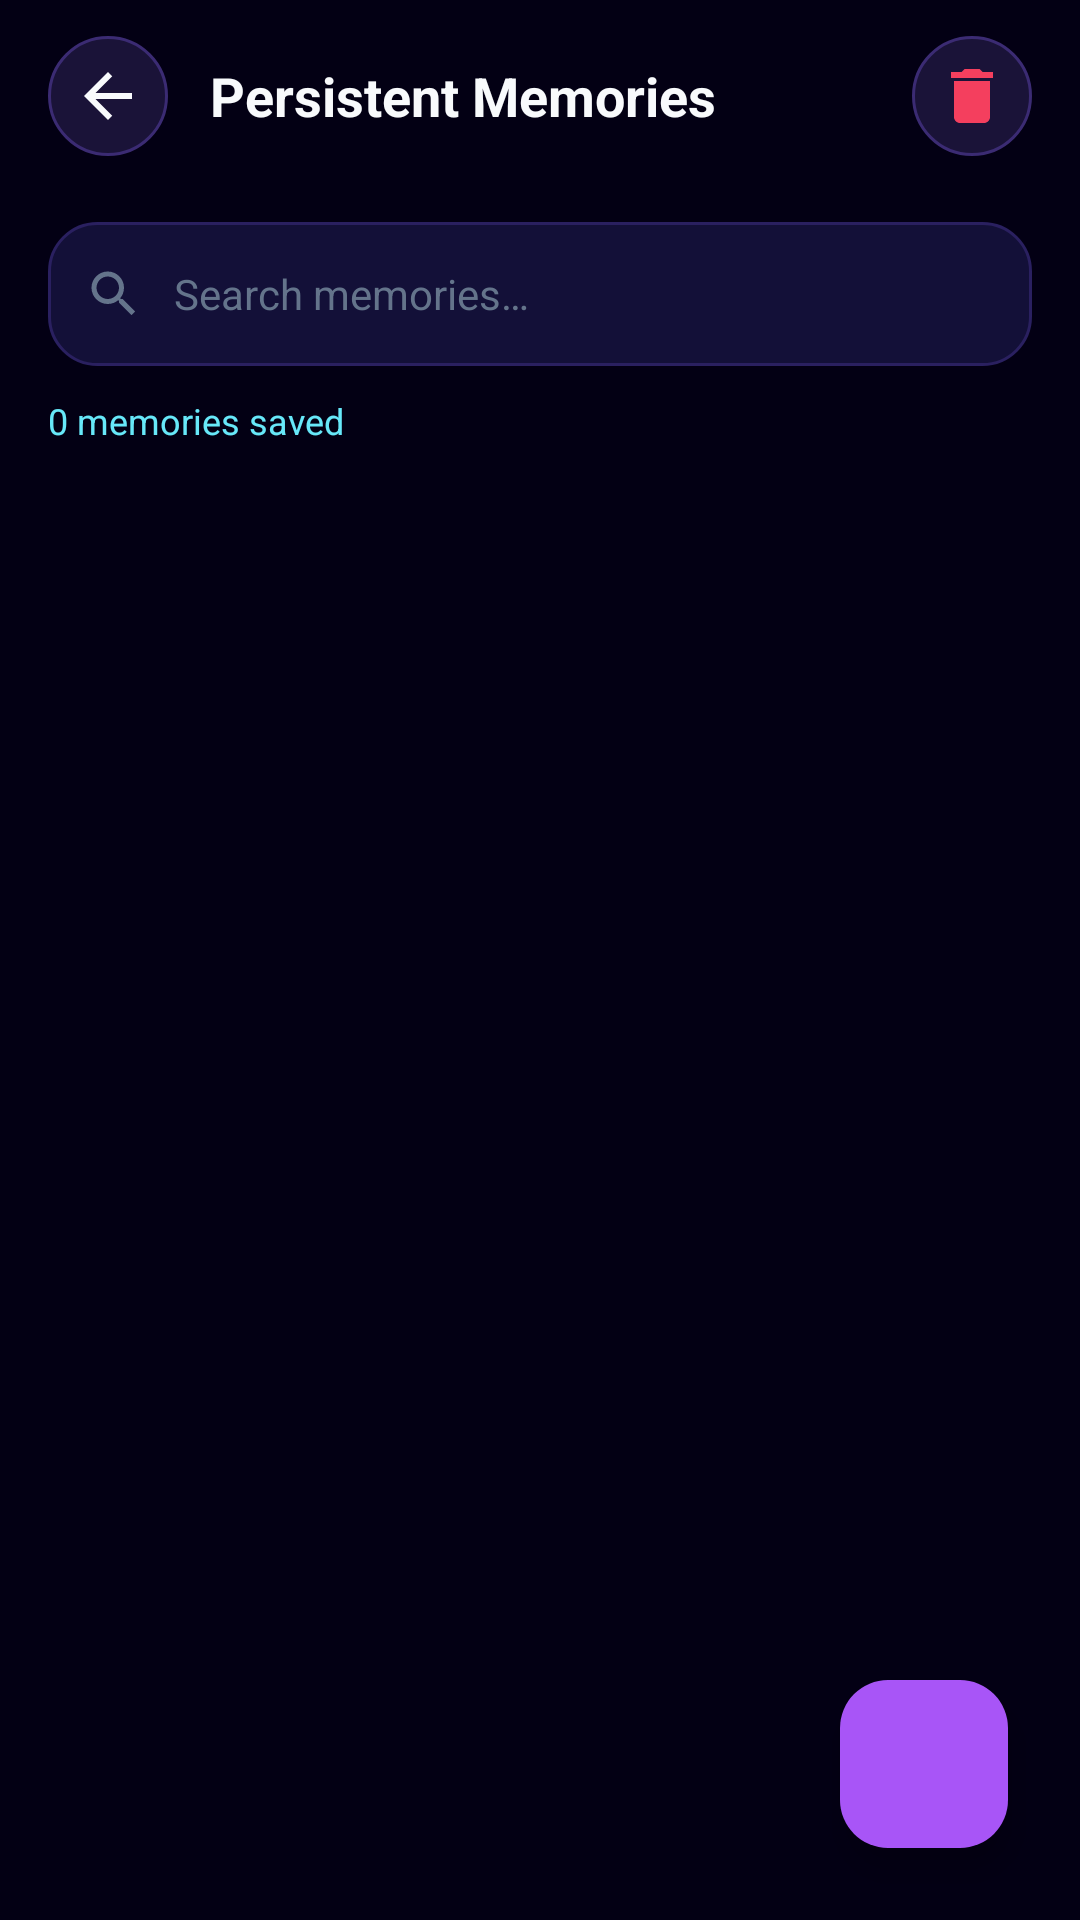

Named icons in this screenshot (1080 × 1920) and their bounding boxes, (x1, y1, x2, y2):
Back: (48, 36, 168, 156)
Clear All: (912, 36, 1032, 156)
